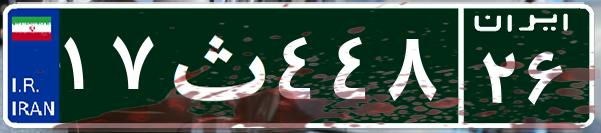1: (57, 26, 110, 107)
2: (475, 38, 525, 113)
4: (273, 28, 330, 110), (330, 28, 385, 110)
6: (525, 38, 570, 115)
7: (110, 28, 158, 105)
8: (385, 28, 445, 110)
ث: (158, 15, 273, 115)
